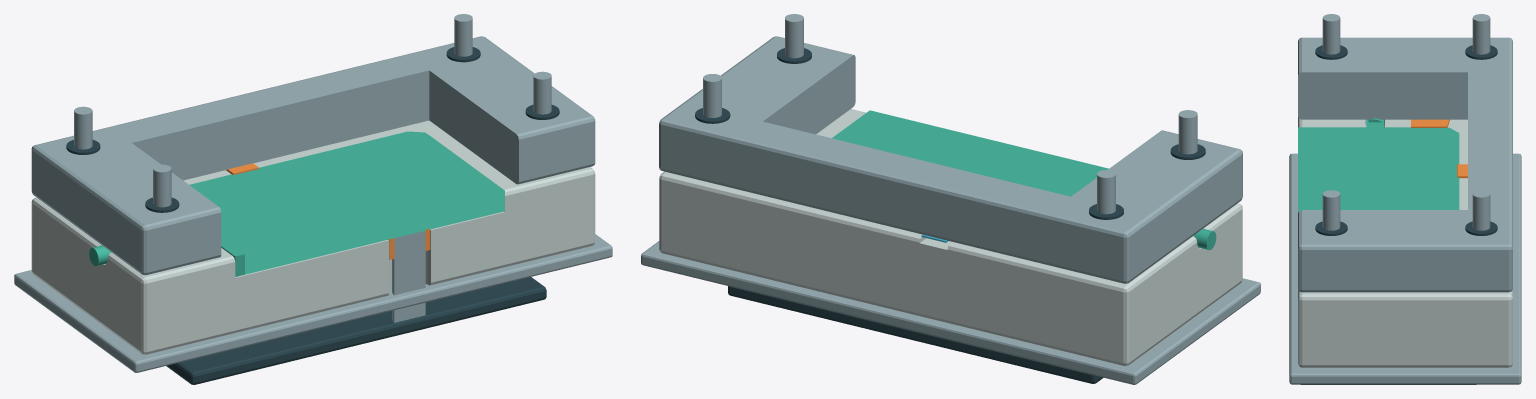
Rendered from mold-detail.glb.
3 renders of one model, left to right at view 1: azimuth 30°, elevation 25°; view 2: azimuth 150°, elevation 25°; view 3: azimuth 270°, elevation 25°, orthographic. The views are drawn at different scales.
Visible parts, largest first — view 1: ejector__UpperMoldSection, ejector__LowerMold, ejector__CavityResin, ejector__Lower backing plate, ejector__Ejector plate, ejector__Ejector pin, ejector__Guide pin, ejector__Guide pin.001, ejector__Guide pin.002, ejector__Guide pin.003; view 2: ejector__UpperMoldSection, ejector__LowerMold, ejector__Lower backing plate, ejector__CavityResin, ejector__Ejector plate, ejector__Guide pin, ejector__Guide pin.002, ejector__Guide pin.001, ejector__Guide pin.003; view 3: ejector__UpperMoldSection, ejector__LowerMold, ejector__CavityResin, ejector__Lower backing plate, ejector__Guide pin, ejector__Guide pin.001, ejector__Guide pin.002, ejector__Guide pin.003, parting__PartingFlash, ejector__Upper bushing.002, ejector__Upper bushing.003, ejector__Upper bushing (+1 smaller).
Part boxes in pixels (x1,y1,x2,y2): ejector__UpperMoldSection: [31, 36, 595, 275]; ejector__LowerMold: [31, 120, 595, 354]; ejector__CavityResin: [189, 131, 504, 276]; ejector__Lower backing plate: [14, 234, 612, 372]; ejector__Ejector plate: [166, 277, 546, 384]; ejector__Ejector pin: [392, 230, 425, 322]; ejector__Guide pin: [153, 164, 171, 207]; ejector__Guide pin.001: [74, 106, 92, 149]; ejector__Guide pin.002: [533, 71, 551, 114]; ejector__Guide pin.003: [454, 14, 472, 56]; ejector__UpperMoldSection: [659, 36, 1242, 283]; ejector__LowerMold: [659, 109, 1242, 365]; ejector__Lower backing plate: [641, 241, 1260, 384]; ejector__CavityResin: [832, 110, 1108, 196]; ejector__Ejector plate: [728, 286, 1103, 383]; ejector__Guide pin: [1178, 110, 1197, 154]; ejector__Guide pin.002: [785, 14, 803, 58]; ejector__Guide pin.001: [1097, 170, 1115, 214]; ejector__Guide pin.003: [703, 74, 721, 117]; ejector__UpperMoldSection: [1298, 37, 1512, 292]; ejector__LowerMold: [1298, 117, 1512, 367]; ejector__CavityResin: [1298, 127, 1459, 212]; ejector__Lower backing plate: [1289, 153, 1521, 384]; ejector__Guide pin: [1322, 14, 1340, 54]; ejector__Guide pin.001: [1472, 14, 1490, 54]; ejector__Guide pin.002: [1322, 190, 1340, 230]; ejector__Guide pin.003: [1472, 190, 1490, 230]; parting__PartingFlash: [1411, 119, 1449, 127]; ejector__Upper bushing.002: [1315, 221, 1347, 235]; ejector__Upper bushing.003: [1465, 221, 1497, 235]; ejector__Upper bushing: [1315, 45, 1347, 59].
Size of the model in its own units: 7.8 by 3.25 by 3.45.
